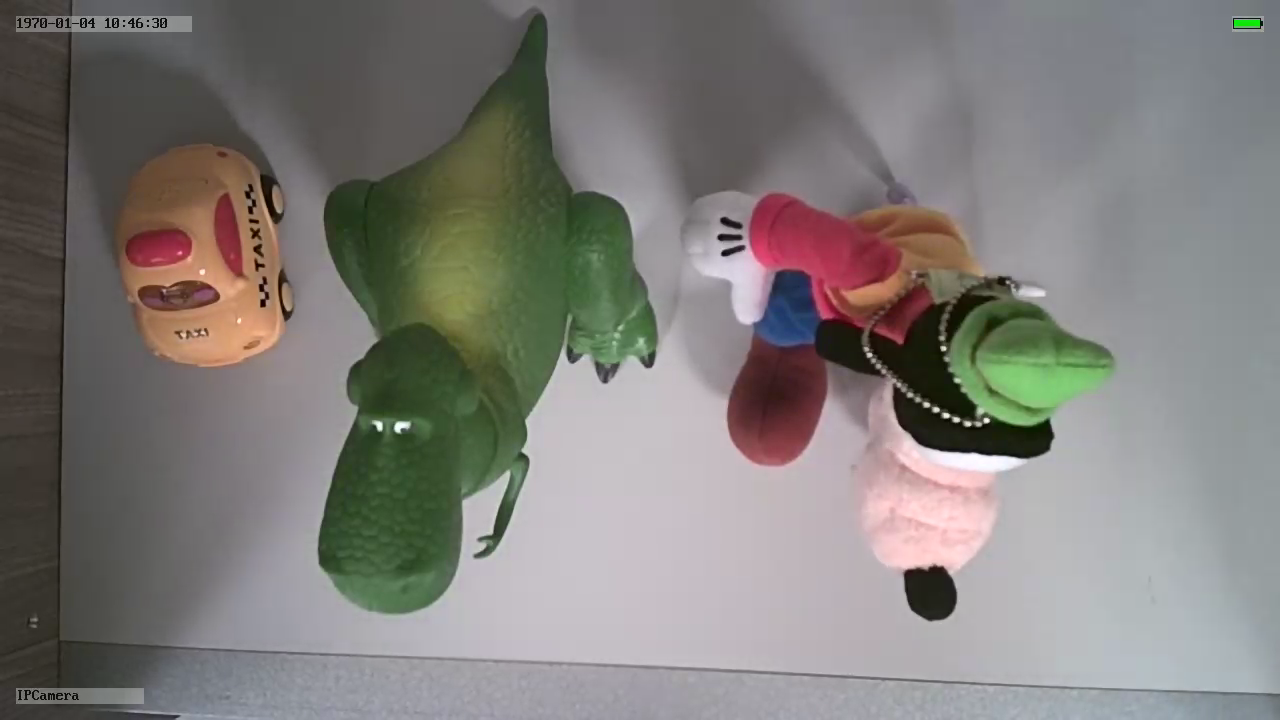goofy: (681, 189, 1116, 622)
